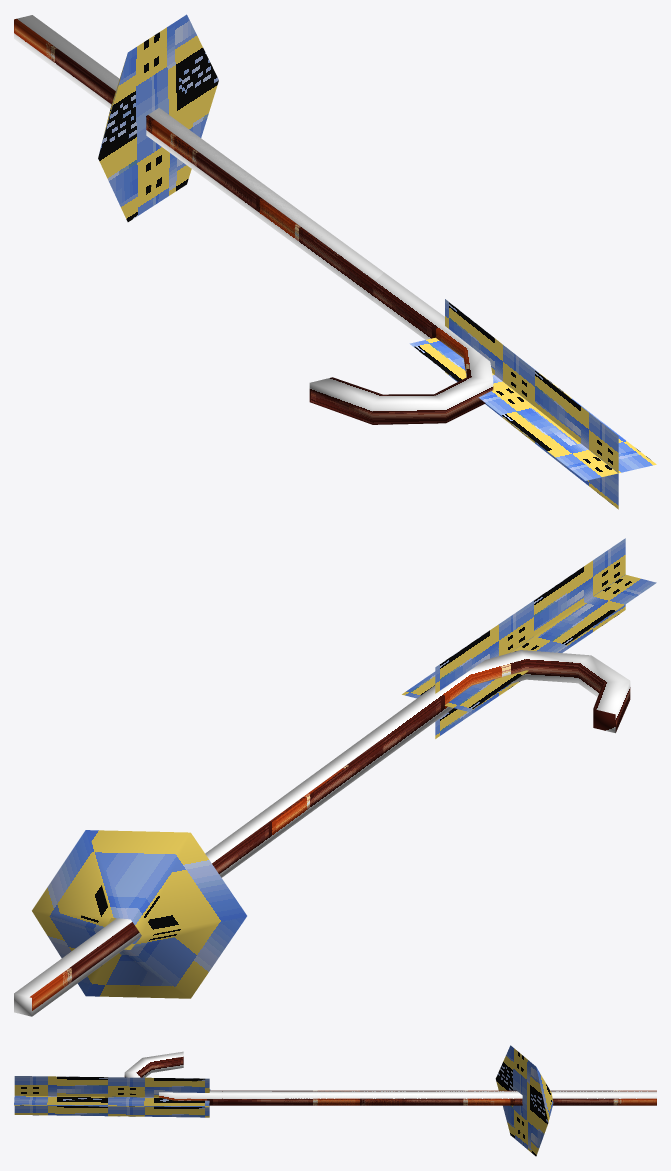
File: 11_04_stick.gltf
The picture shows the model from 3 angles, top to bottom: view 1: azimuth 30°, elevation 25°; view 2: azimuth 150°, elevation 25°; view 3: azimuth 270°, elevation 25°; orthographic projection. The views are drawn at different scales.
Parts seen in each view (by area): view 1: 11_04_stick; view 2: 11_04_stick; view 3: 11_04_stick.
Part boxes in pixels (bbox=[...]): 11_04_stick: bbox=[14, 14, 656, 509]; 11_04_stick: bbox=[14, 538, 656, 1016]; 11_04_stick: bbox=[14, 1045, 656, 1156].
Size of the model in its own units: 0.3416 by 0.219 by 1.42.
2 materials, 2 textured.
